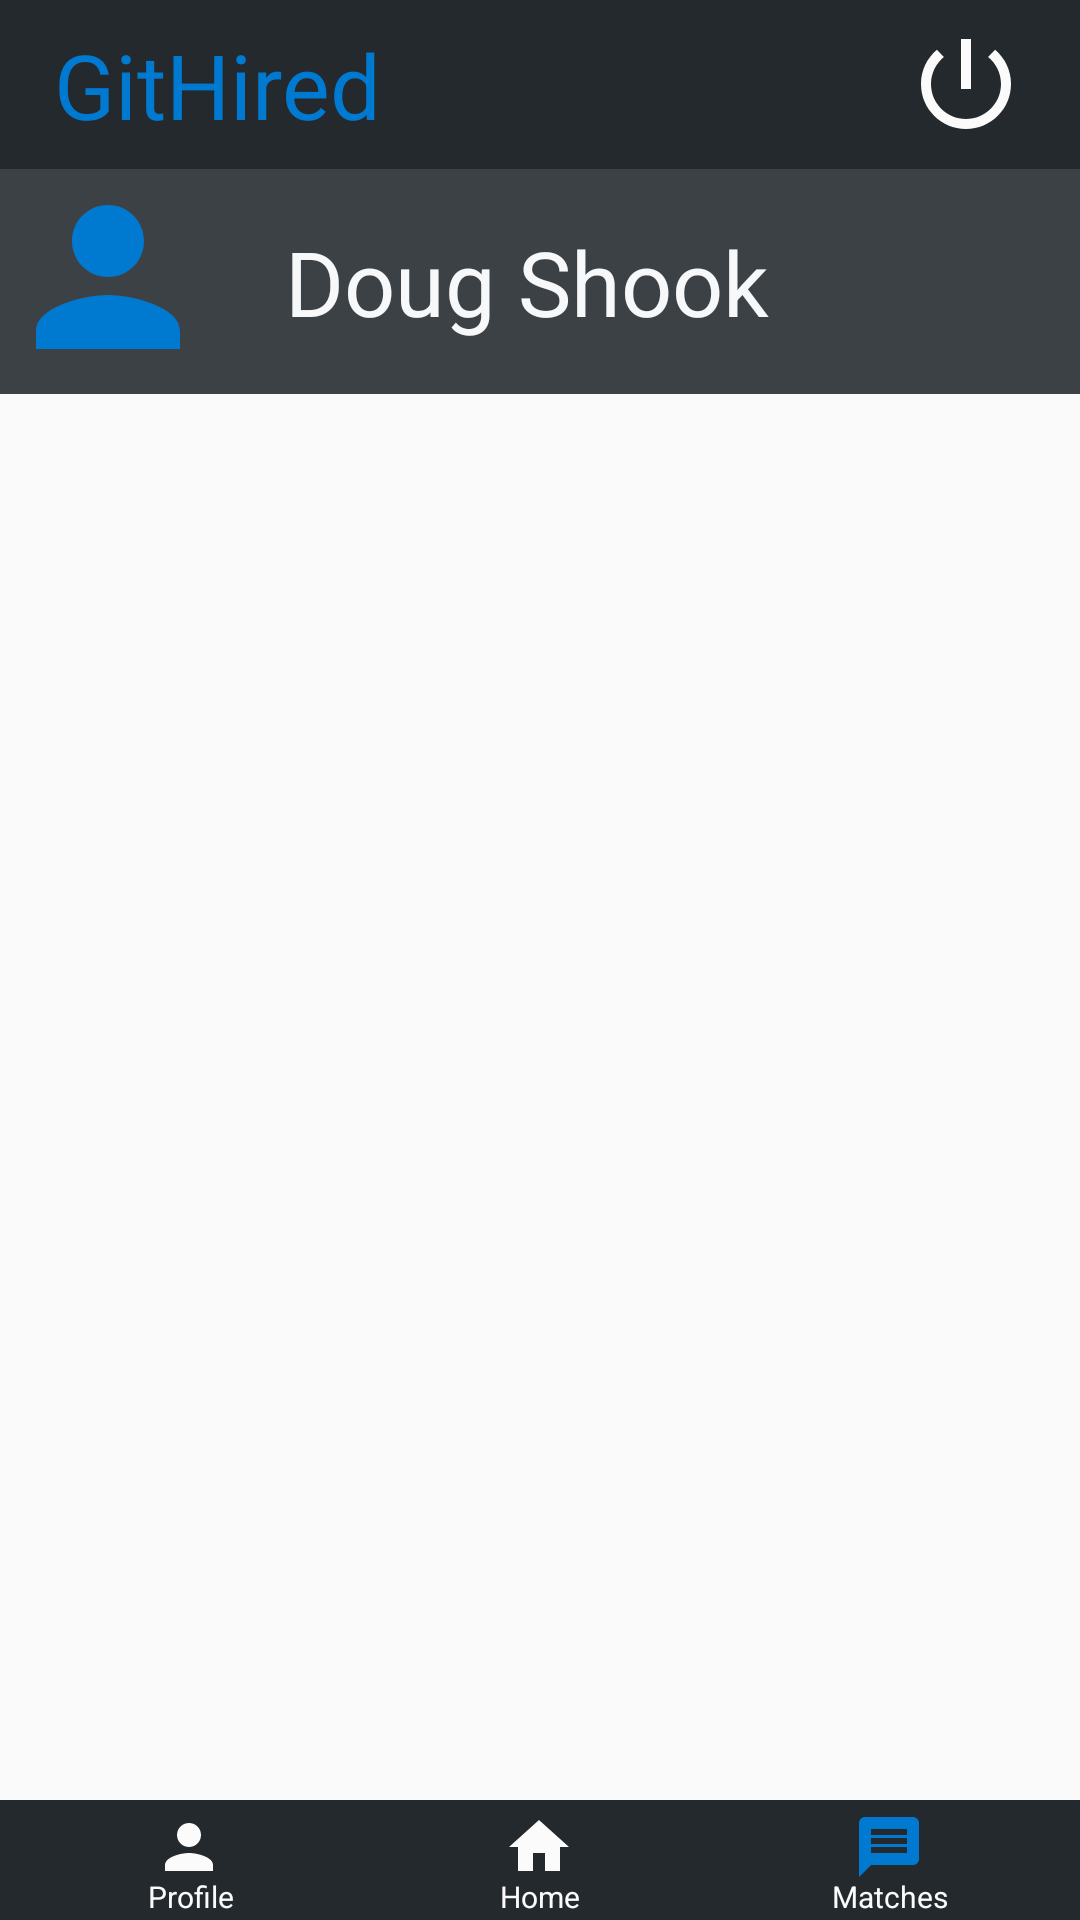

Point at icon controls on the screen. Image size 1080 × 1920, points as (x=x, y=y).
messageblue: (x=889, y=1847)
powerwhite: (x=966, y=84)
profileblue: (x=108, y=277)
